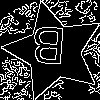B: (29, 26, 67, 74)
